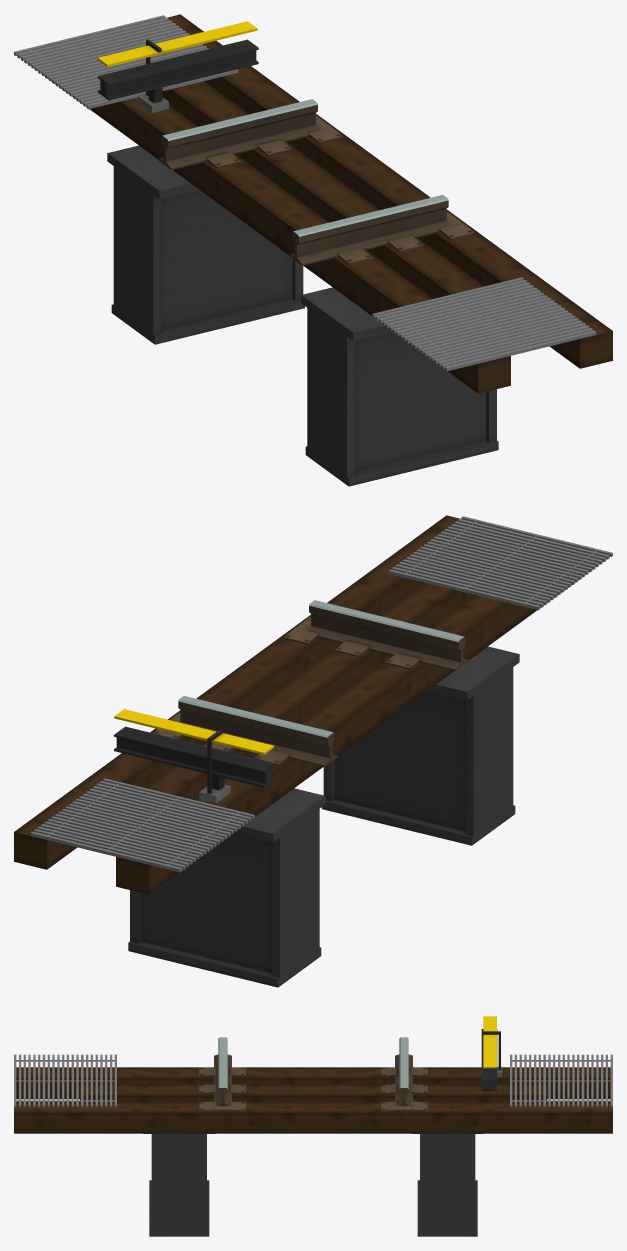
File: spsf_tracks_bridge2_left.obj
The picture shows the model from 3 angles, top to bottom: view 1: azimuth 30°, elevation 25°; view 2: azimuth 150°, elevation 25°; view 3: azimuth 270°, elevation 25°; orthographic projection. The views are drawn at different scales.
Visible parts, largest first — view 1: RAIL_BASE.004_Cube, RAIL_BASE.003_RAIL_BASE.006, RAIL_BASE_Cube.007, RAIL_BASE.002_Cube.004, RAIL_LEFT_Cube.002, RAIL_RIGHT_Cube.010, RAIL_BASE.005_Cube.003; view 2: RAIL_BASE.004_Cube, RAIL_BASE.003_RAIL_BASE.006, RAIL_BASE_Cube.007, RAIL_BASE.002_Cube.004, RAIL_LEFT_Cube.002, RAIL_RIGHT_Cube.010, RAIL_BASE.005_Cube.003; view 3: RAIL_BASE.003_RAIL_BASE.006, RAIL_BASE.004_Cube, RAIL_BASE_Cube.007, RAIL_BASE.005_Cube.003, RAIL_BASE.002_Cube.004, RAIL_LEFT_Cube.002, RAIL_RIGHT_Cube.010.
Part boxes in pixels (left/top/right/bottom): RAIL_BASE.004_Cube: left=107, top=145, right=498, bottom=486; RAIL_BASE.003_RAIL_BASE.006: left=48, top=14, right=612, bottom=393; RAIL_BASE_Cube.007: left=14, top=15, right=596, bottom=371; RAIL_BASE.002_Cube.004: left=97, top=21, right=258, bottom=112; RAIL_LEFT_Cube.002: left=289, top=195, right=449, bottom=265; RAIL_RIGHT_Cube.010: left=158, top=99, right=318, bottom=169; RAIL_BASE.005_Cube.003: left=206, top=116, right=474, bottom=264; RAIL_BASE.004_Cube: left=128, top=646, right=519, bottom=987; RAIL_BASE.003_RAIL_BASE.006: left=14, top=515, right=578, bottom=894; RAIL_BASE_Cube.007: left=30, top=516, right=612, bottom=872; RAIL_BASE.002_Cube.004: left=114, top=709, right=275, bottom=803; RAIL_LEFT_Cube.002: left=308, top=600, right=468, bottom=670; RAIL_RIGHT_Cube.010: left=178, top=696, right=337, bottom=766; RAIL_BASE.005_Cube.003: left=153, top=617, right=420, bottom=765; RAIL_BASE.003_RAIL_BASE.006: left=14, top=1067, right=612, bottom=1133; RAIL_BASE.004_Cube: left=143, top=1133, right=483, bottom=1236; RAIL_BASE_Cube.007: left=14, top=1054, right=612, bottom=1107; RAIL_BASE.005_Cube.003: left=199, top=1067, right=427, bottom=1111; RAIL_BASE.002_Cube.004: left=481, top=1016, right=502, bottom=1090; RAIL_LEFT_Cube.002: left=214, top=1037, right=231, bottom=1105; RAIL_RIGHT_Cube.010: left=395, top=1037, right=412, bottom=1105.
Size of the model in its own units: 1.11 by 1.58 by 5.
1 material, 1 textured.
